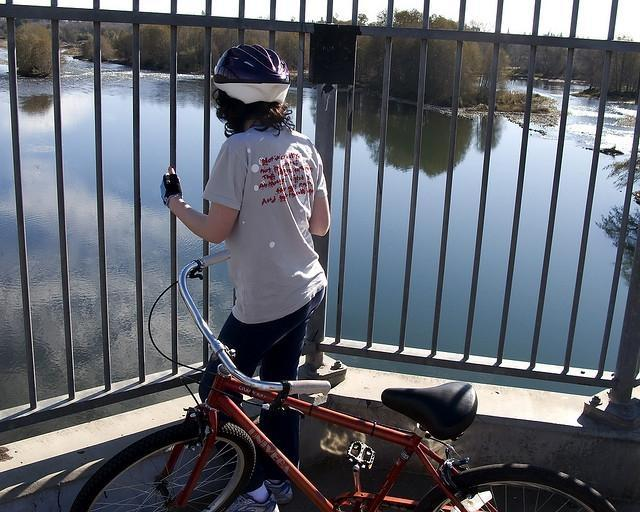bicycle: (79, 252, 616, 506)
